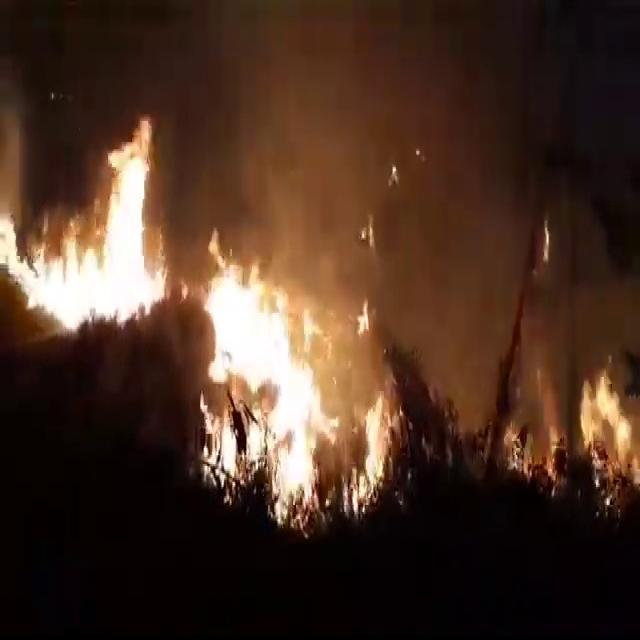Fire: (198, 250, 356, 510), (0, 126, 173, 331), (497, 378, 570, 498), (582, 373, 637, 491), (350, 389, 394, 514), (195, 411, 244, 502), (592, 437, 621, 519), (521, 426, 538, 494), (341, 480, 359, 510)
Smoke: (83, 7, 563, 450), (213, 0, 477, 240)
